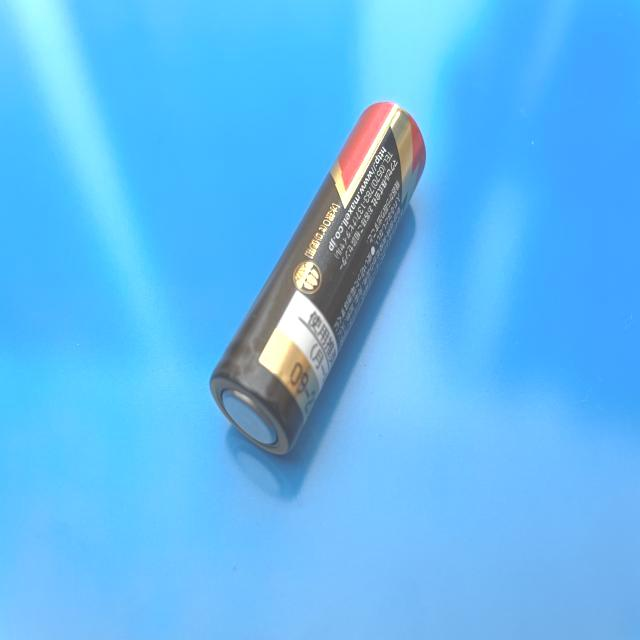AA: (209, 98, 432, 478)
